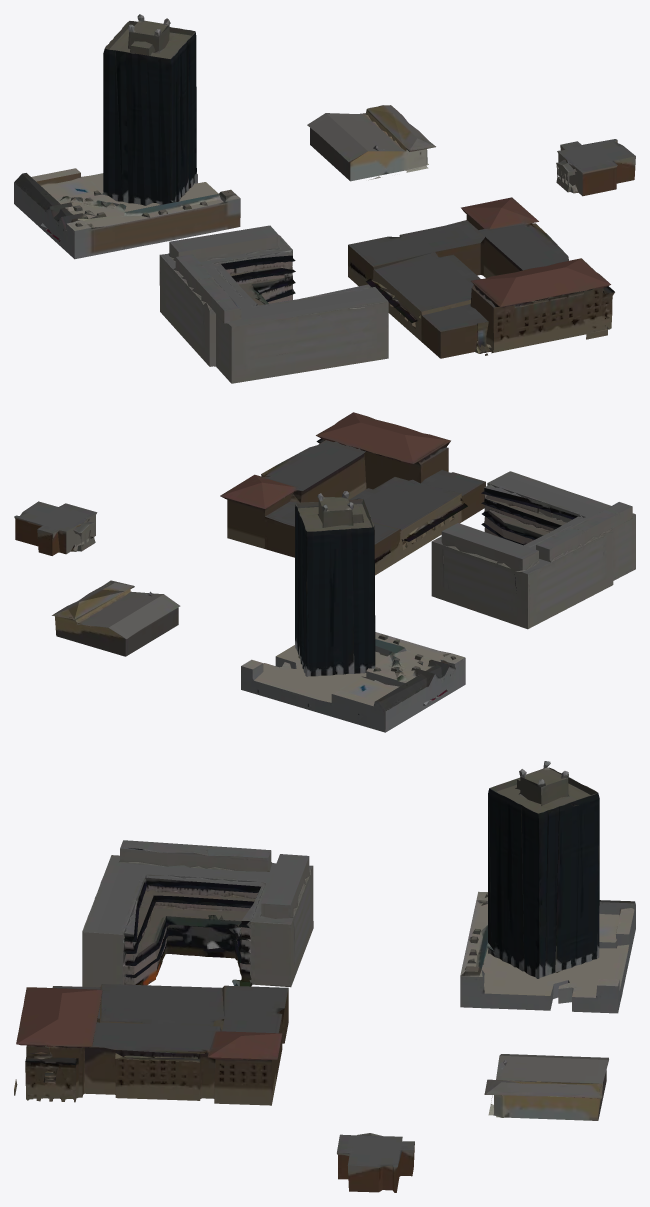
The model's file is t_-1_1.coat.glb.
The picture shows the model from 3 angles, top to bottom: view 1: azimuth 30°, elevation 25°; view 2: azimuth 150°, elevation 25°; view 3: azimuth 270°, elevation 25°; orthographic projection. The views are drawn at different scales.
Visible parts, largest first — view 1: far; view 2: far; view 3: far.
Part boxes in pixels (x1,y1,x2,y2): far: (14, 14, 635, 383); far: (14, 412, 635, 732); far: (14, 761, 635, 1192).
Size of the model in its own units: 262 by 92.36 by 249.
1 material, 1 textured.
